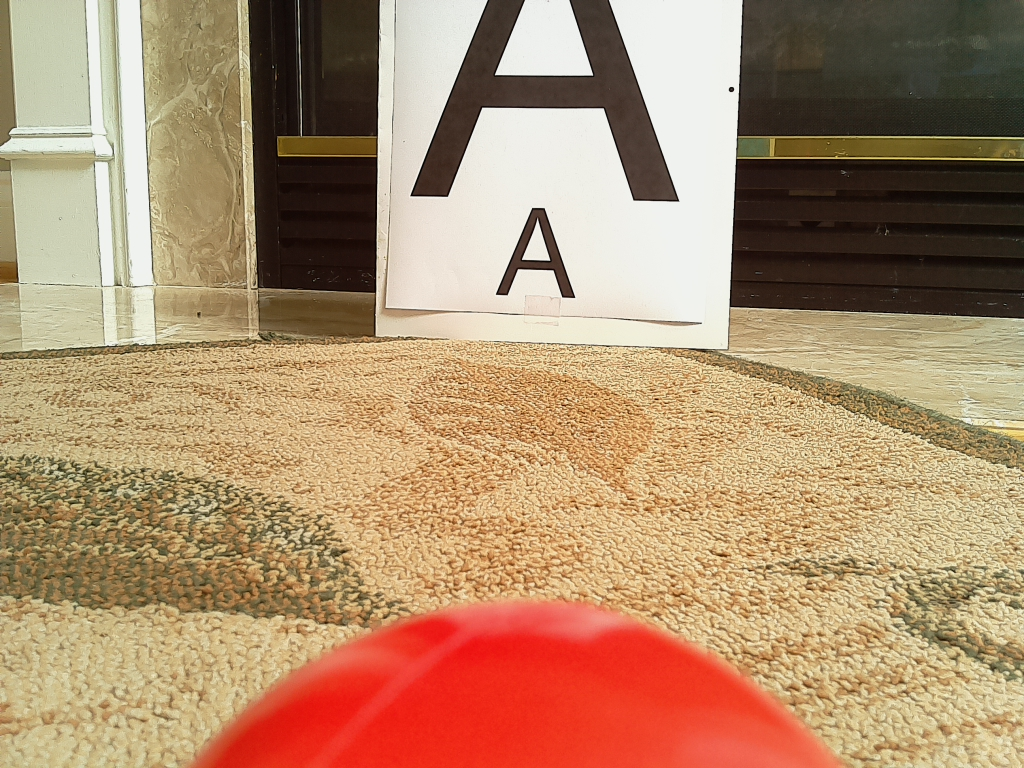letter: (409, 2, 675, 200), (495, 203, 577, 300)
